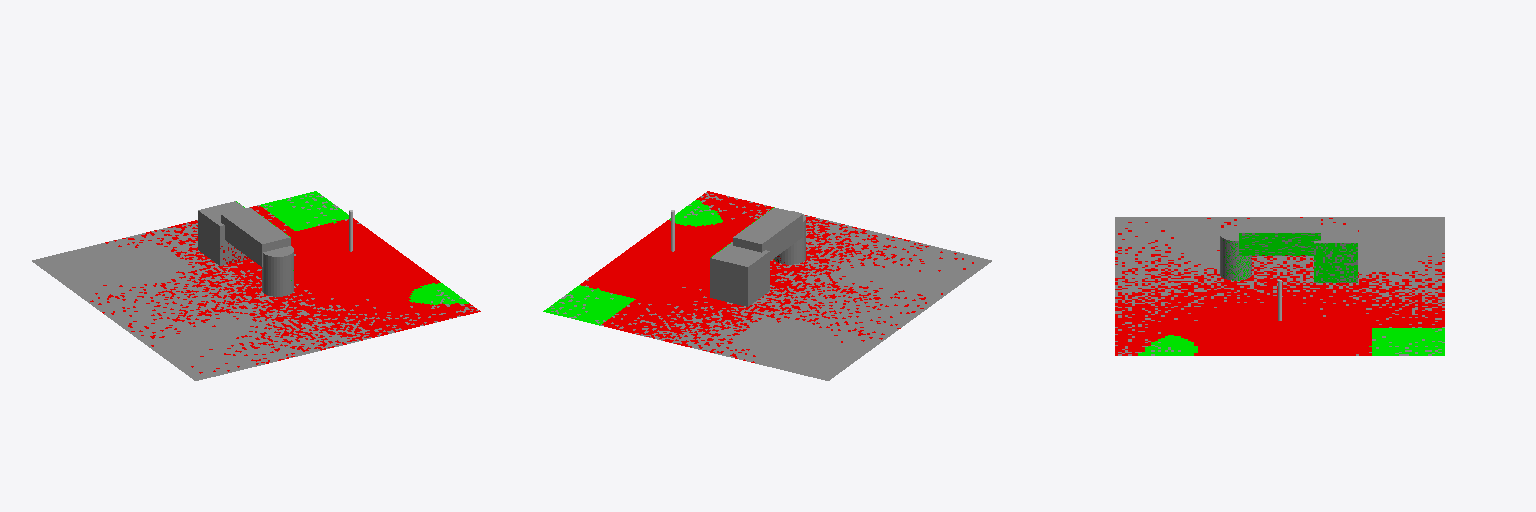
3 renders of one model, left to right at view 1: azimuth 30°, elevation 25°; view 2: azimuth 150°, elevation 25°; view 3: azimuth 270°, elevation 25°, orthographic.
Parts seen in each view (by area): view 1: Plane, Cube.001_Cube.008, Cube_Cube.007, Cylinder_Cylinder.001; view 2: Plane, Cube_Cube.007, Cube.001_Cube.008, Cylinder_Cylinder.001; view 3: Plane, Cube.001_Cube.008, Cube_Cube.007, Cylinder_Cylinder.001.
Boxes of the visible parts, box(x1,y1,x2,y2) form: Plane: box(32, 191, 480, 380); Cube.001_Cube.008: box(221, 207, 290, 266); Cube_Cube.007: box(198, 201, 249, 265); Cylinder_Cylinder.001: box(262, 246, 293, 296); Plane: box(543, 191, 991, 380); Cube_Cube.007: box(710, 242, 769, 306); Cube.001_Cube.008: box(733, 207, 802, 260); Cylinder_Cylinder.001: box(774, 211, 805, 264); Plane: box(1115, 217, 1444, 355); Cube.001_Cube.008: box(1239, 219, 1320, 255); Cube_Cube.007: box(1314, 225, 1357, 282); Cylinder_Cylinder.001: box(1220, 227, 1251, 280).
Size of the model in its own units: 15 by 3.03 by 15.
5 materials, 5 textured.